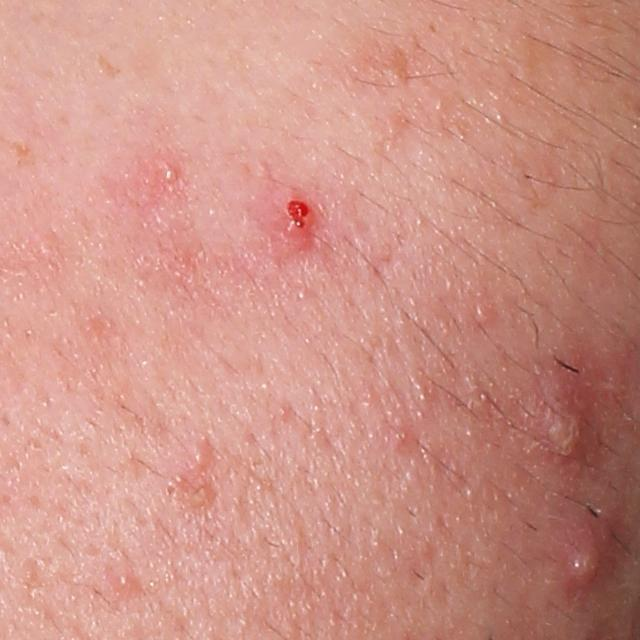comedo: (110, 565, 138, 599), (468, 299, 497, 330)
melasma: (95, 48, 126, 81)
pustule: (538, 385, 590, 459), (151, 160, 178, 191)
